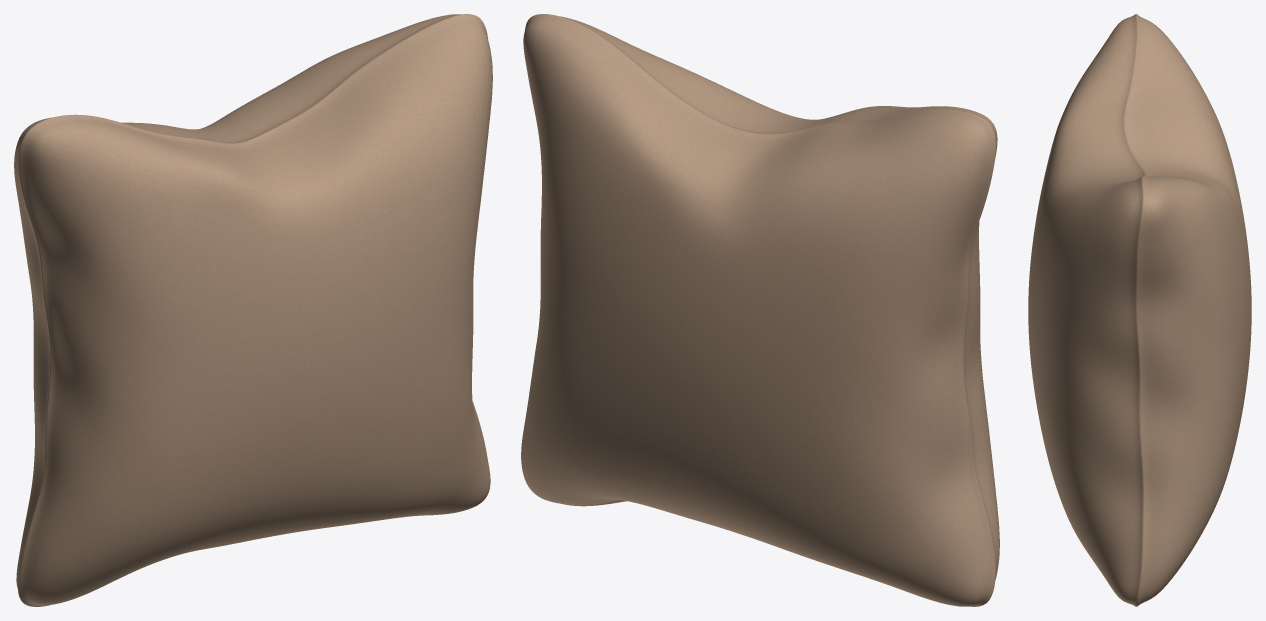
File: cushion.glb
3 views of the same model, side by side, from view 1: azimuth 30°, elevation 25°; view 2: azimuth 150°, elevation 25°; view 3: azimuth 270°, elevation 25° (orthographic). The views are drawn at different scales.
Visible parts, largest first — view 1: Box001; view 2: Box001; view 3: Box001.
Part boxes in pixels (bbox=[...]): Box001: bbox=[14, 14, 492, 606]; Box001: bbox=[521, 14, 999, 606]; Box001: bbox=[1028, 14, 1251, 606].
Size of the model in its own units: 21.28 by 21.21 by 10.34.
1 material, 1 textured.
